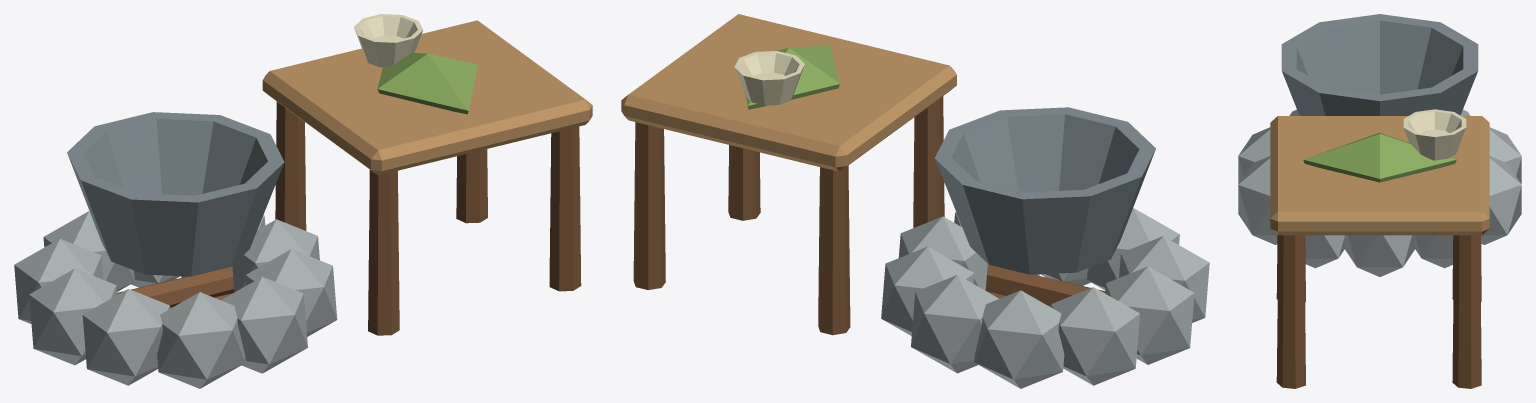
The model's file is CC_Kitchen.fbx.
The picture shows the model from 3 angles, left to right: view 1: azimuth 30°, elevation 25°; view 2: azimuth 150°, elevation 25°; view 3: azimuth 270°, elevation 25°; orthographic projection. The views are drawn at different scales.
Parts seen in each view (by area): view 1: Cooking pot, Prep surface, Hearth stone.007, Hearth stone.006, Hearth stone.008, Hearth stone.005, Leg.016, Leg.018, Serving leaf, Hearth stone.009, Leg.017, Hearth stone.004 (+5 smaller); view 2: Cooking pot, Prep surface, Hearth stone.003, Hearth stone.004, Hearth stone.002, Hearth stone.005, Leg.017, Leg.019, Hearth stone.001, Leg.016, Hearth stone.006, Ingredient bowl (+5 smaller); view 3: Prep surface, Cooking pot, Leg.019, Leg.018, Serving leaf, Ingredient bowl, Hearth stone, Hearth stone.002, Hearth stone.008, Hearth stone.009, Hearth stone.001, Hearth stone.003 (+1 smaller).
Boxes of the visible parts, x1,y1,x2,y2 form: Cooking pot: (67,112,284,276); Prep surface: (262,20,592,175); Hearth stone.007: (157,292,245,388); Hearth stone.006: (82,289,169,385); Hearth stone.008: (221,276,307,373); Hearth stone.005: (29,268,116,365); Leg.016: (368,170,399,335); Leg.018: (549,126,581,291); Serving leaf: (377,52,477,114); Hearth stone.009: (245,249,337,336); Leg.017: (275,101,306,230); Hearth stone.004: (14,239,103,323); Cooking pot: (935,107,1155,274); Prep surface: (621,14,956,171); Hearth stone.003: (974,290,1064,388); Hearth stone.004: (1051,287,1139,385); Hearth stone.002: (911,275,999,373); Hearth stone.005: (1105,266,1194,364); Leg.017: (818,165,850,335); Leg.019: (633,122,665,289); Hearth stone.001: (881,246,974,335); Leg.016: (913,96,944,227); Hearth stone.006: (1119,236,1209,322); Ingredient bowl: (734,51,804,105); Prep surface: (1270,116,1489,235); Cooking pot: (1281,14,1478,115); Leg.019: (1452,235,1481,388); Leg.018: (1276,235,1305,388); Serving leaf: (1303,132,1456,182); Ingredient bowl: (1403,109,1466,160); Hearth stone: (1344,235,1415,276); Hearth stone.002: (1481,156,1521,244); Hearth stone.008: (1238,156,1277,244); Hearth stone.009: (1305,235,1344,268); Hearth stone.001: (1415,235,1481,268); Hearth stone.003: (1489,127,1521,183).
Size of the model in its own units: 2.51 by 1.1 by 1.29.
